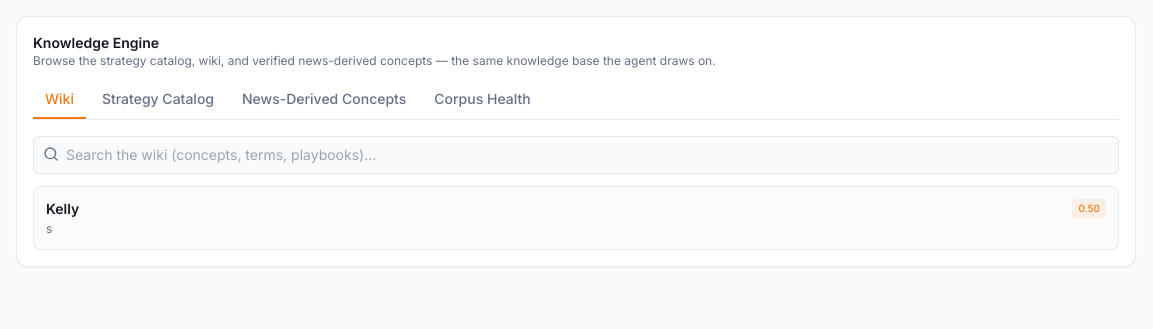
Test: KnowledgeEngine wiki tab › a rejected slug (traversal) reads as not found, not as an empty page
Click the text "Kelly". click: (63, 209)
box: [46,199,79,219]
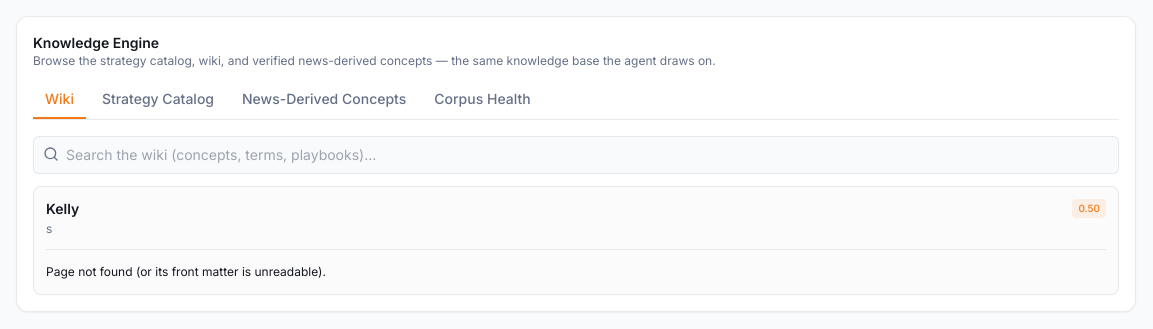
Expected: the text "Page not found (or its front matter is unreadable)." is shown, [46,264,326,279]
